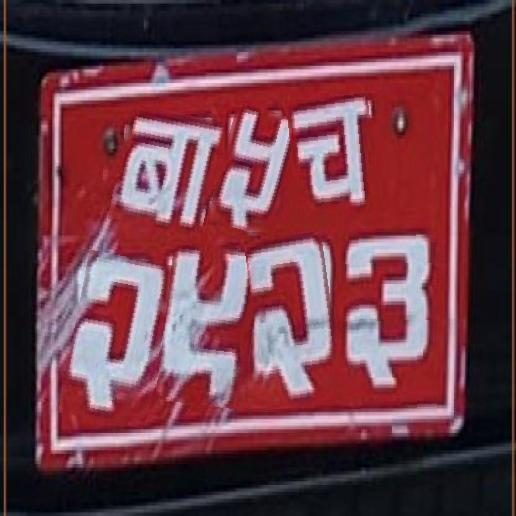2: (66, 254, 169, 426), (250, 233, 339, 408)
3: (339, 232, 437, 409)
5: (214, 107, 298, 235)
9: (159, 243, 258, 408)
ba: (112, 107, 219, 234)
cha: (290, 95, 378, 224)
